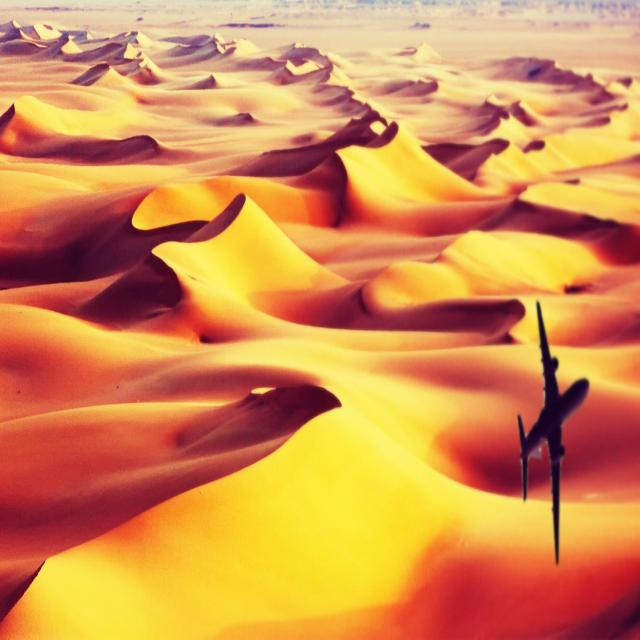airplane: (516, 299, 590, 564)
